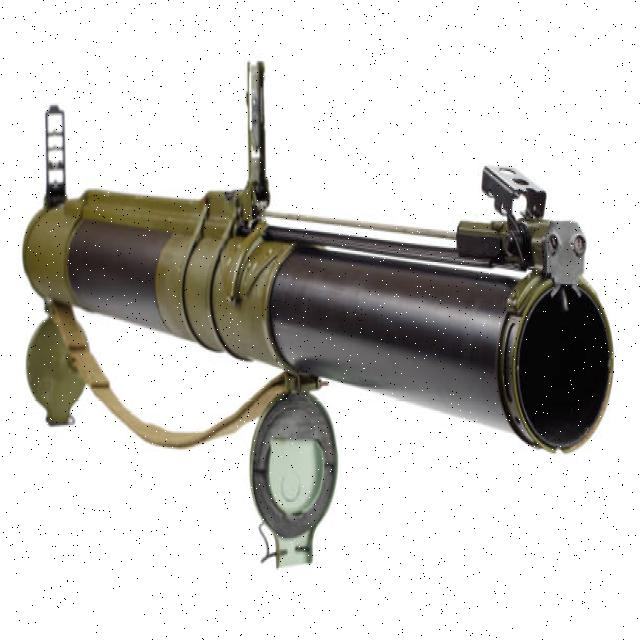bazooka: (17, 45, 620, 587)
